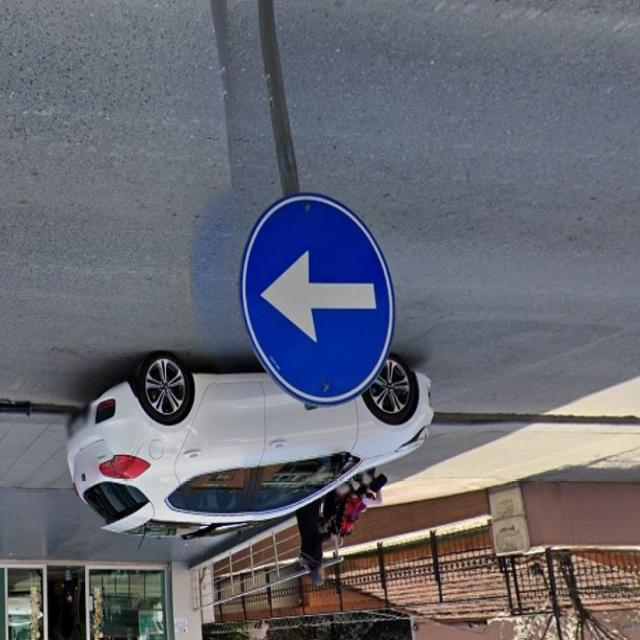Turn Left: (242, 195, 398, 404)
